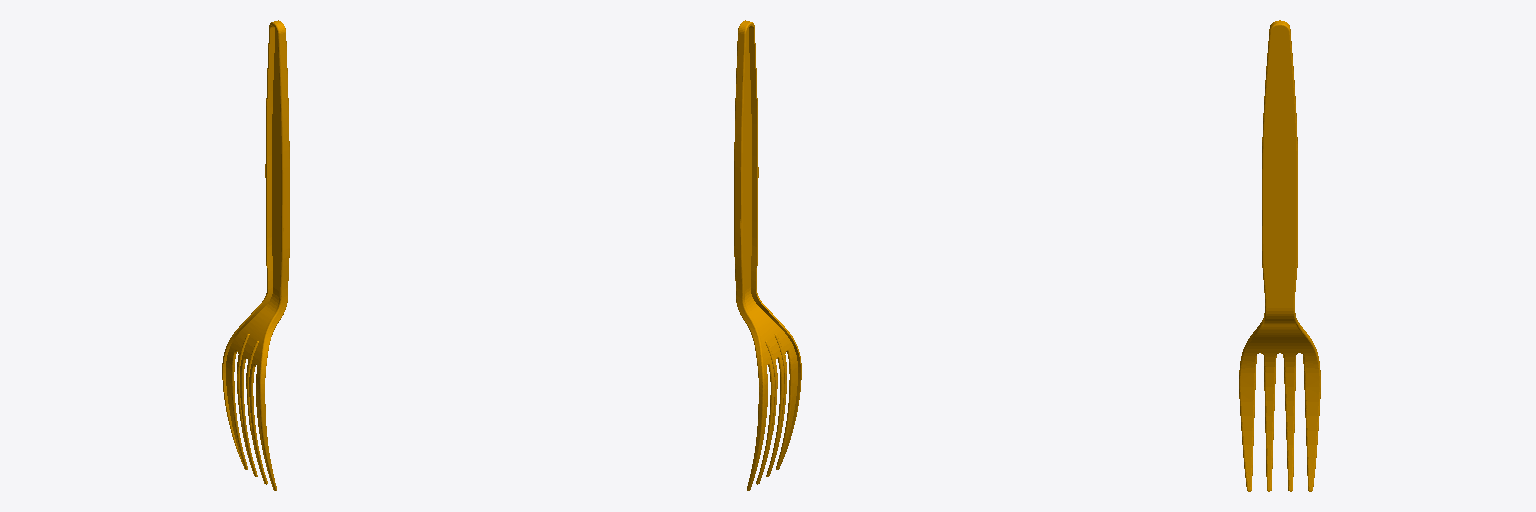
The robot description file, URDF, robot "fork":
<robot name="fork">
  <link name="fork">
    <visual>
      <geometry>
        <mesh filename="fork.stl" />
      </geometry>
    </visual>
    <collision>
      <geometry>
        <mesh filename="fork.stl" />
      </geometry>
    </collision>
  </link>
</robot>

--- Render facts (derived) ---
The picture shows the robot from 3 angles, left to right: view 1: azimuth 30°, elevation 25°; view 2: azimuth 150°, elevation 25°; view 3: azimuth 270°, elevation 25°; orthographic projection.
Model fork with 1 links and 0 joints (none), rooted at fork, posed every joint at zero.
Links seen in each view (by area): view 1: fork; view 2: fork; view 3: fork.
Link boxes in pixels (x1,y1,x2,y2): fork: (222, 20, 289, 490); fork: (734, 20, 801, 490); fork: (1239, 20, 1320, 491).
Size in the robot's own frame: 0.015 by 0.0248 by 0.16 metres.
1 mesh visuals loaded from 1 distinct referenced files (1 binary STL).